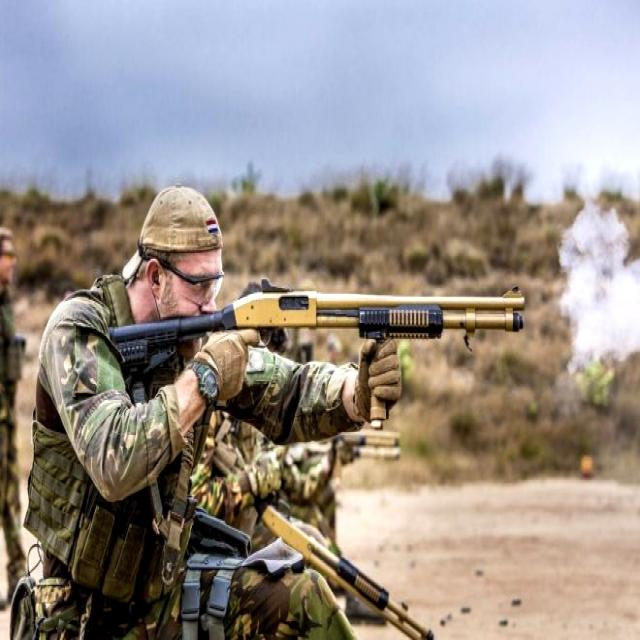shotgun: (95, 279, 533, 386)
